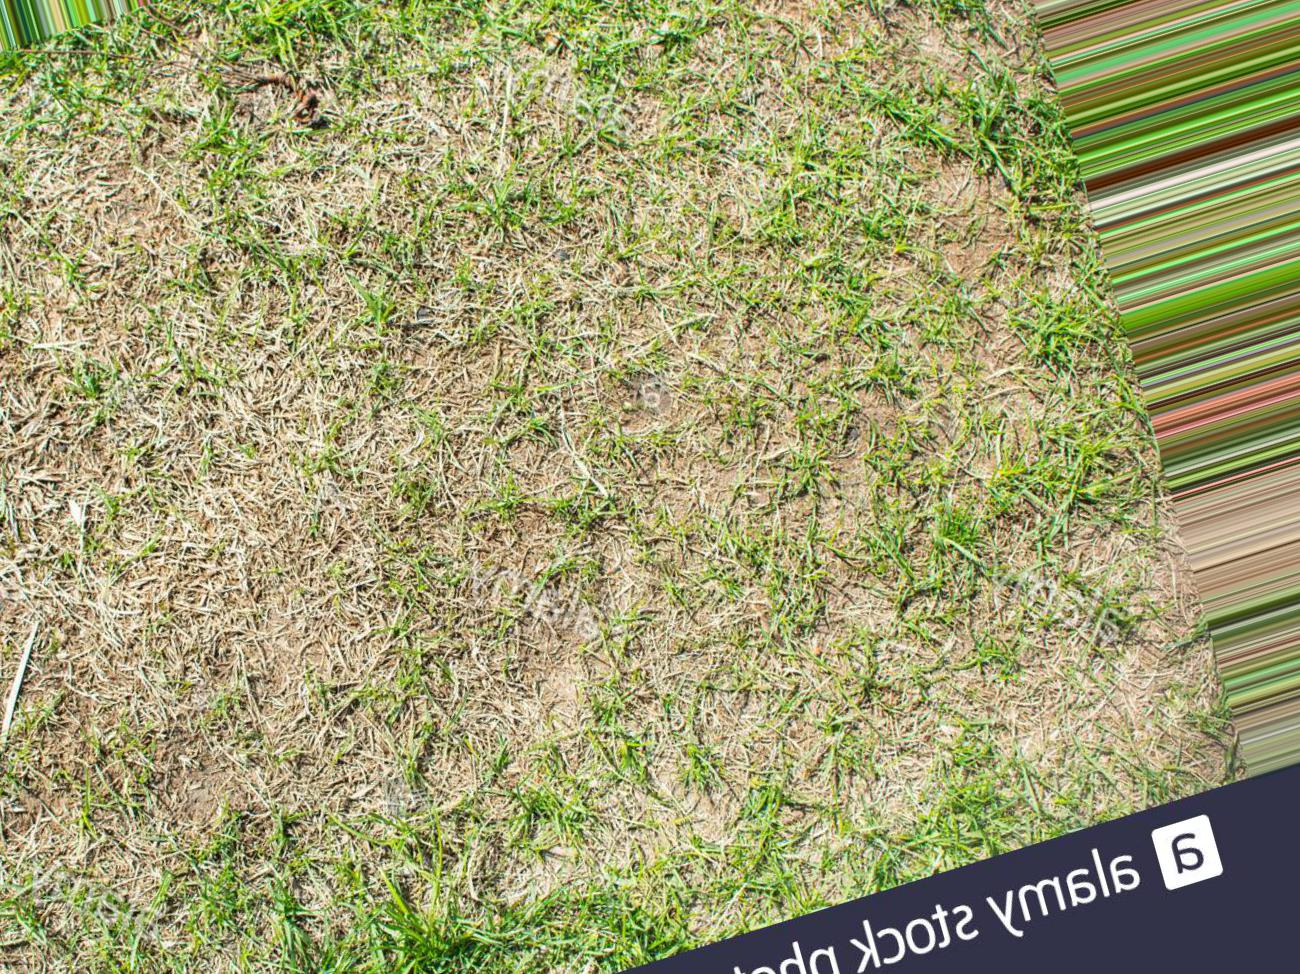patch: (494, 460, 891, 714), (85, 459, 397, 625), (498, 202, 757, 370), (509, 748, 783, 896), (107, 201, 353, 353), (972, 583, 1155, 763), (902, 252, 1086, 414)
